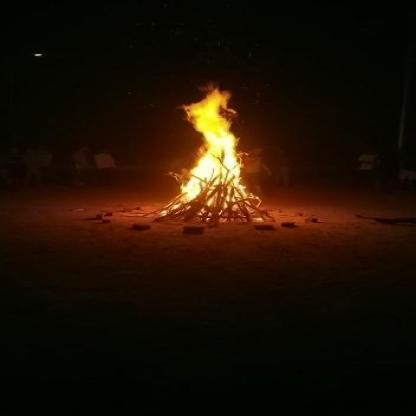fire: (159, 74, 269, 213)
